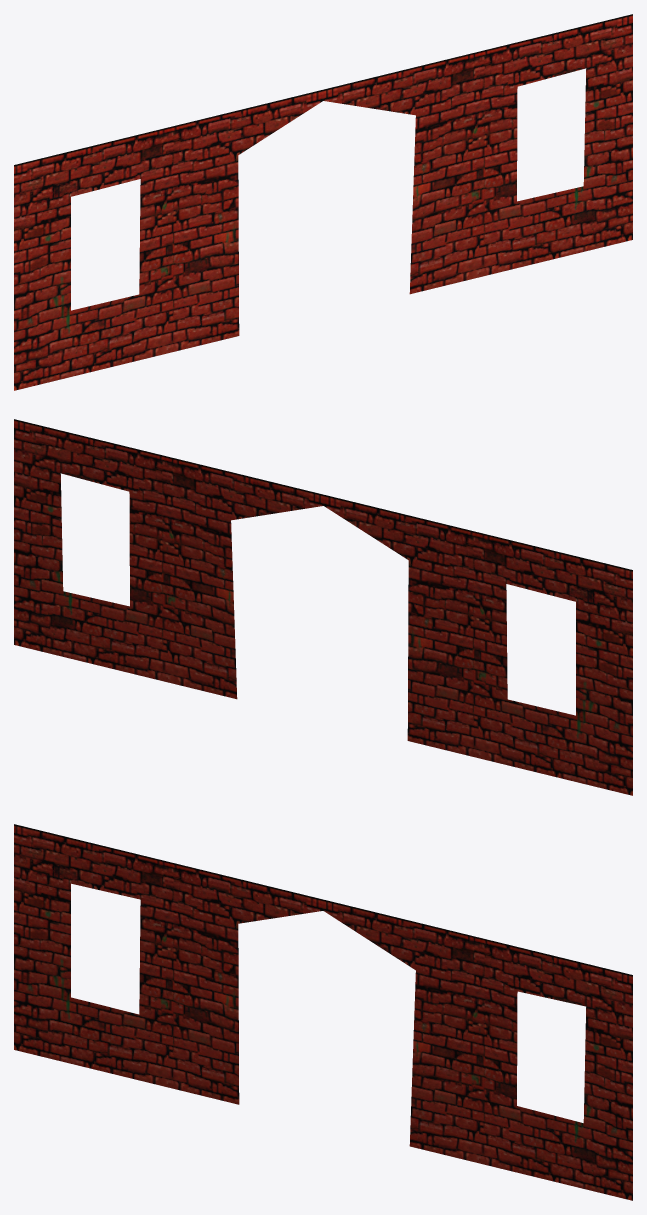
Rendered from W_AI3_fOf [Ziegel]_641.glb.
3 views of the same model, one above another, from view 1: azimuth 30°, elevation 25°; view 2: azimuth 150°, elevation 25°; view 3: azimuth 330°, elevation 25° (orthographic).
Visible parts, largest first — view 1: polySurfaceShape771; view 2: polySurfaceShape771; view 3: polySurfaceShape771.
Boxes of the visible parts, <box> form: polySurfaceShape771: <box>14,14,632,390</box>; polySurfaceShape771: <box>14,419,632,795</box>; polySurfaceShape771: <box>14,824,632,1200</box>.
Bounding box in the file's own units: 1 × 0.3486 × 1.52e-08.
Materials: 1 (1 with a texture image).
